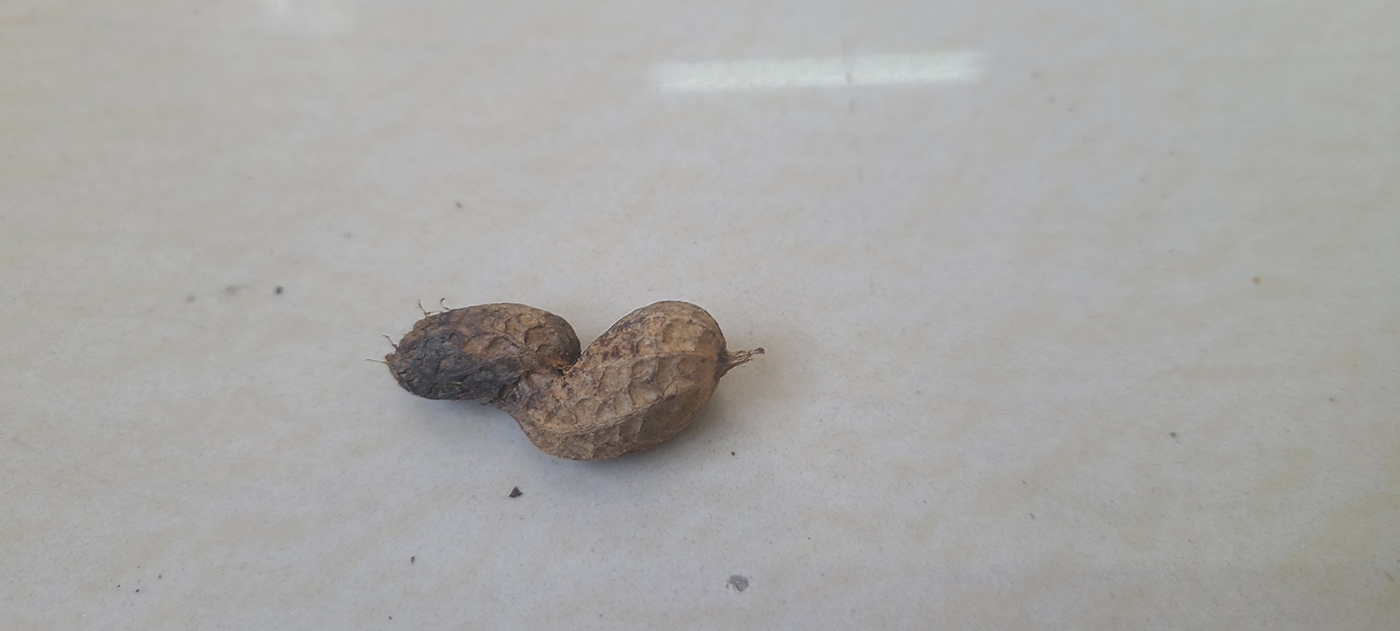l: (383, 294, 735, 466)
